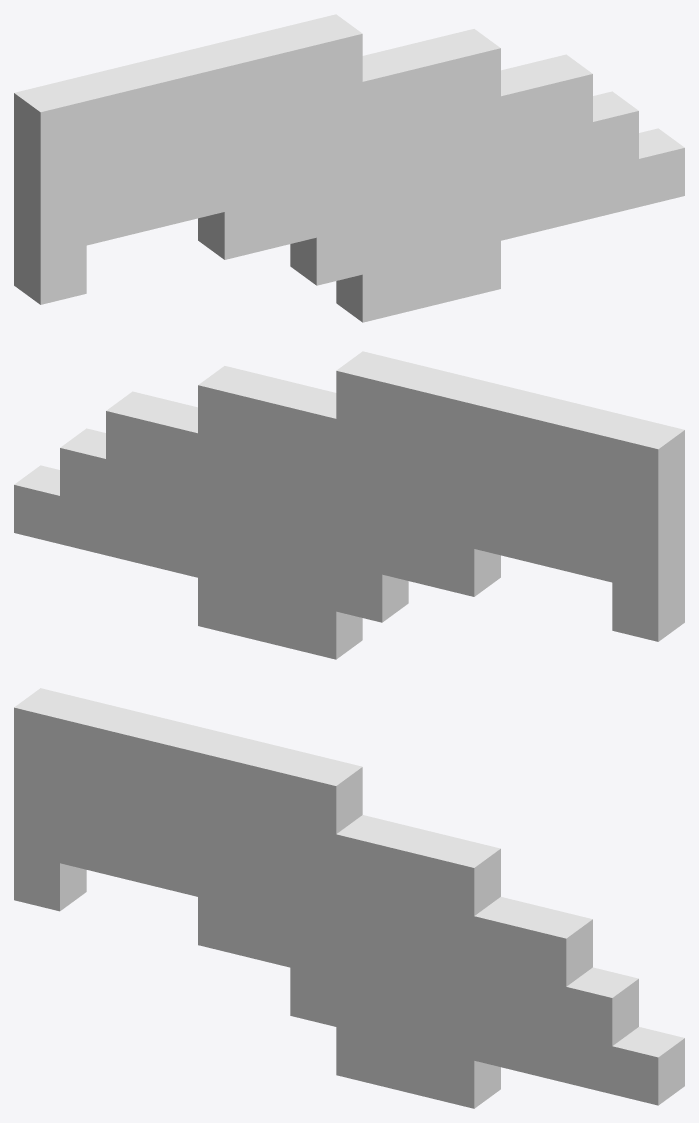
The model's file is Fight_028_2_09_fx.obj.
3 renders of one model, top to bottom at view 1: azimuth 30°, elevation 25°; view 2: azimuth 150°, elevation 25°; view 3: azimuth 330°, elevation 25°, orthographic.
Size of the model in its own units: 1.4 by 0.6 by 0.1.
Materials: 1 (1 with a texture image).
